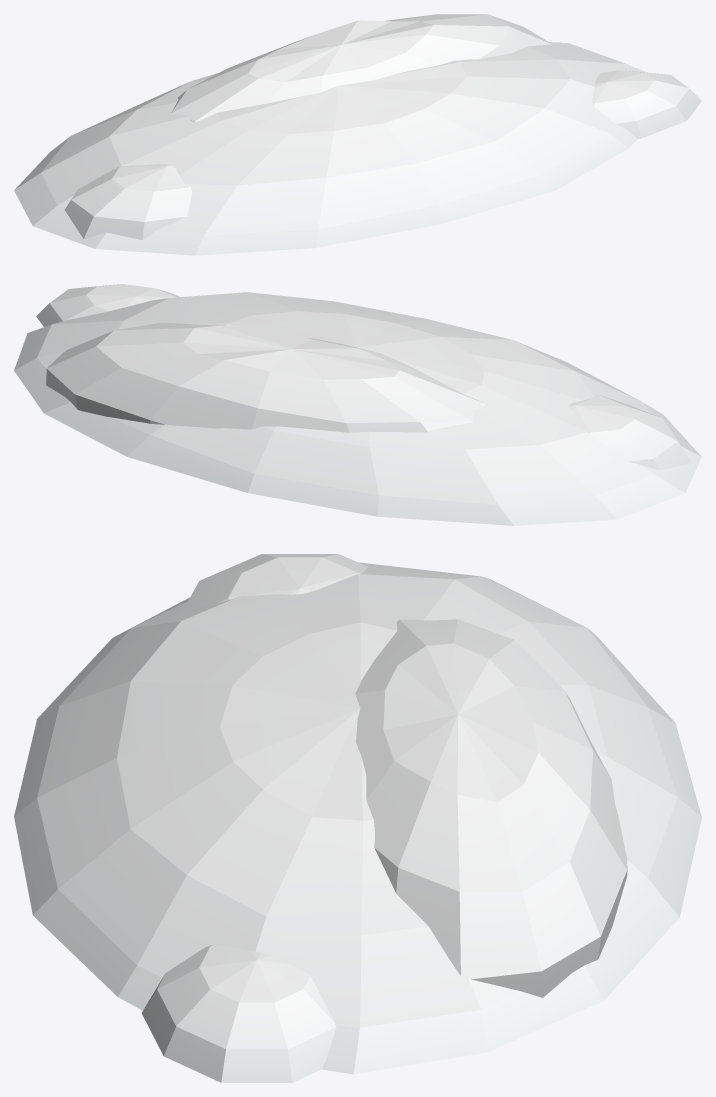
The model's file is snow_drift.glb.
3 renders of one model, top to bottom at view 1: azimuth 30°, elevation 25°; view 2: azimuth 150°, elevation 25°; view 3: azimuth 270°, elevation 25°, orthographic. The views are drawn at different scales.
Visible parts, largest first — view 1: snow_drift; view 2: snow_drift; view 3: snow_drift.
Boxes of the visible parts, left/top/right/bottom form: snow_drift: left=14, top=14, right=701, bottom=255; snow_drift: left=14, top=284, right=701, bottom=525; snow_drift: left=14, top=554, right=701, bottom=1082.
Bounding box in the file's own units: 4.28 × 0.4915 × 2.39.
Materials: 1 (1 with a texture image).
